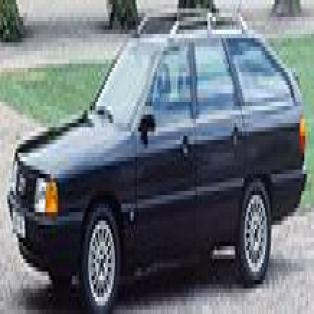Auto: (6, 4, 310, 310)
